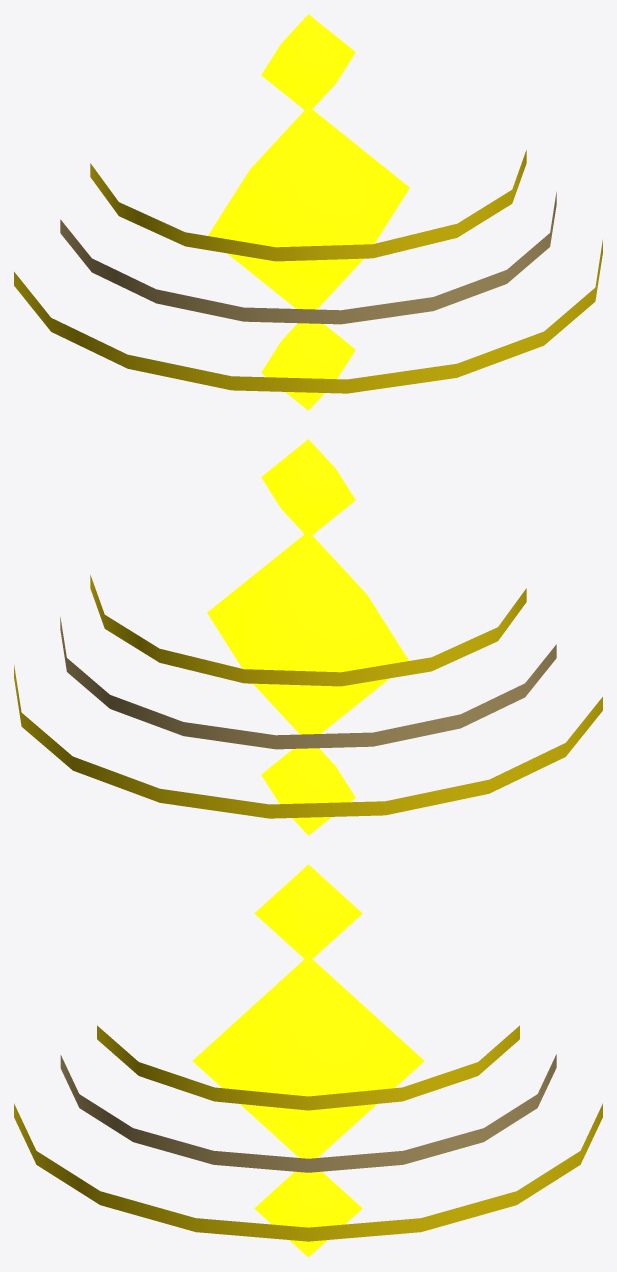
Rendered from singularidad_eterica.glb.
3 renders of one model, top to bottom at view 1: azimuth 30°, elevation 25°; view 2: azimuth 150°, elevation 25°; view 3: azimuth 270°, elevation 25°, orthographic.
Parts seen in each view (by area): view 1: Glow, Accent, Base; view 2: Glow, Accent, Base; view 3: Glow, Accent, Base.
Part boxes in pixels (box(x1,y1,x2,y2)): Glow: box(208, 14, 409, 410); Accent: box(14, 150, 602, 393); Base: box(60, 192, 556, 324); Glow: box(207, 439, 408, 835); Accent: box(14, 575, 602, 818); Base: box(60, 617, 556, 749); Glow: box(192, 864, 424, 1257); Accent: box(14, 1025, 602, 1241); Base: box(60, 1054, 556, 1172).
Size of the model in its own units: 0.76 by 0.56 by 0.76.
